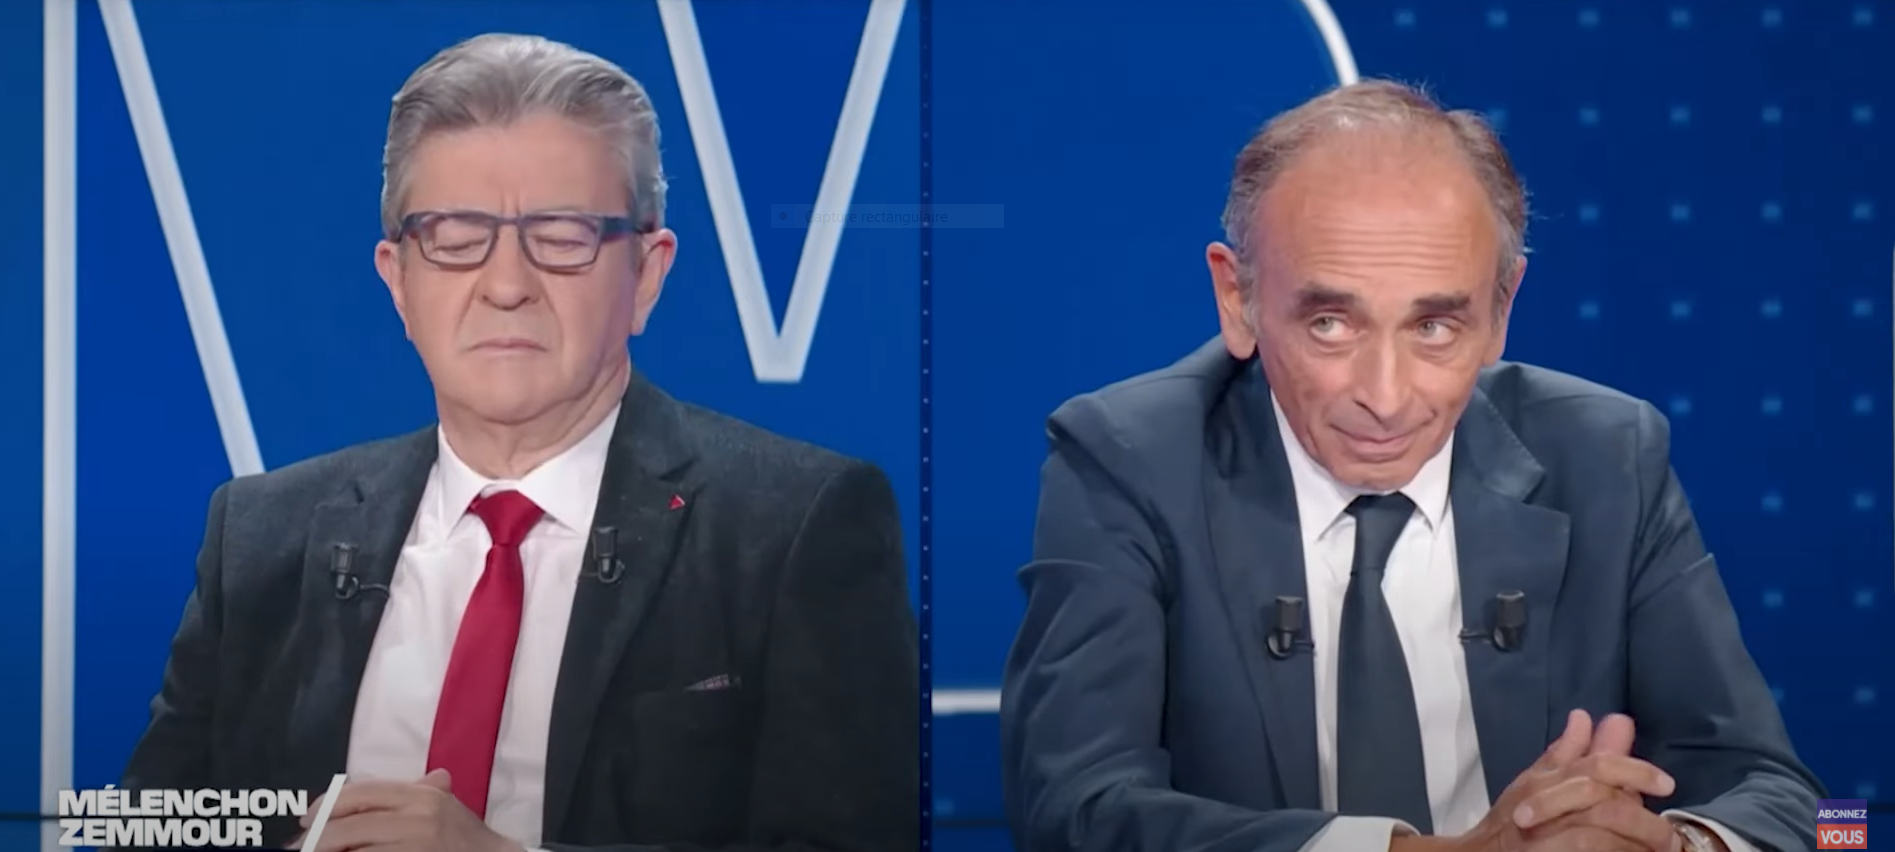without_mask: (1283, 212, 1474, 493), (407, 189, 617, 398)
